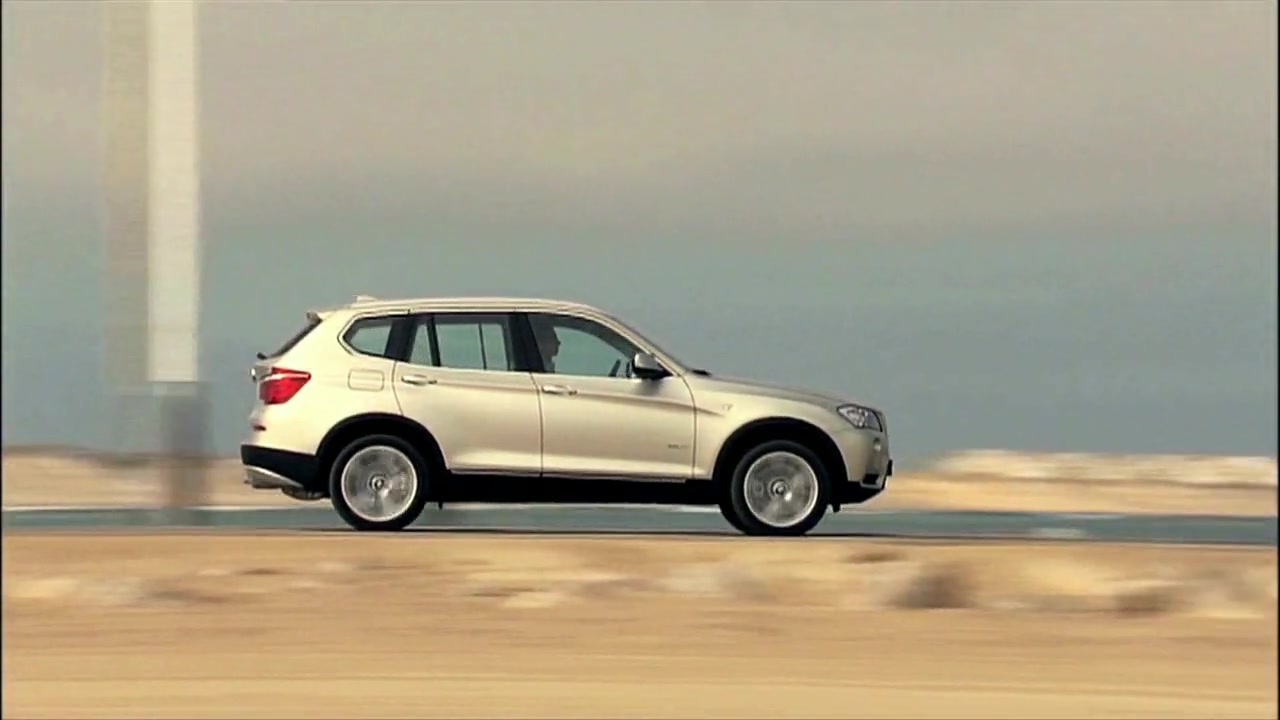car: (239, 297, 898, 540)
